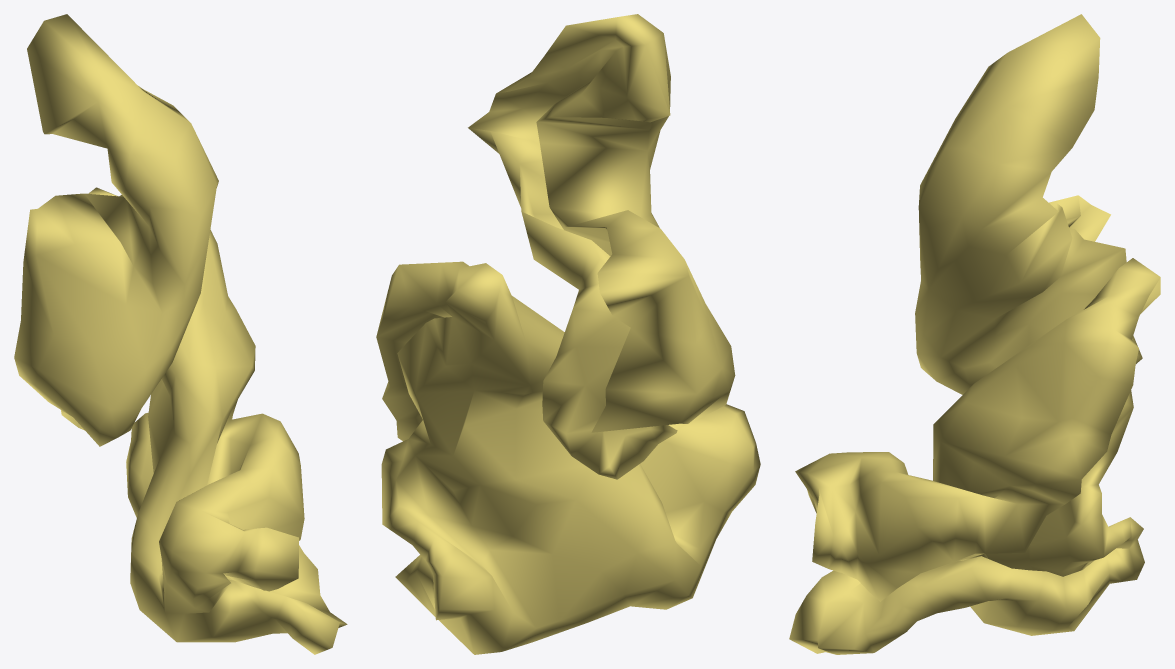
File: parieto-occipital-sulcus-r.glb
3 renders of one model, left to right at view 1: azimuth 30°, elevation 25°; view 2: azimuth 150°, elevation 25°; view 3: azimuth 270°, elevation 25°, orthographic. The views are drawn at different scales.
Parts seen in each view (by area): view 1: Parieto-occipital sulcus.r; view 2: Parieto-occipital sulcus.r; view 3: Parieto-occipital sulcus.r.
Part boxes in pixels (x1,y1,x2,y2): Parieto-occipital sulcus.r: (14, 14, 347, 654); Parieto-occipital sulcus.r: (376, 14, 760, 654); Parieto-occipital sulcus.r: (789, 14, 1160, 654).
Bounding box in the file's own units: 0.0225 × 0.0507 × 0.0299.
